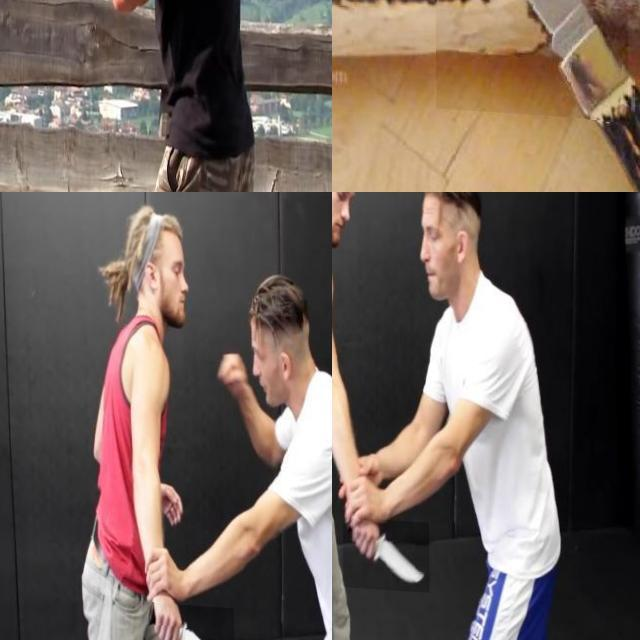-: (434, 0, 627, 157), (342, 514, 429, 589), (141, 599, 233, 640), (0, 0, 40, 52)
